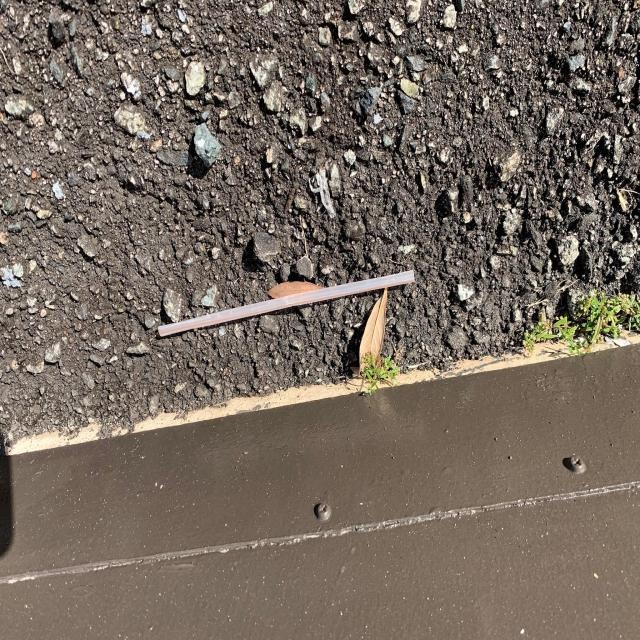litter: (160, 269, 414, 334)
